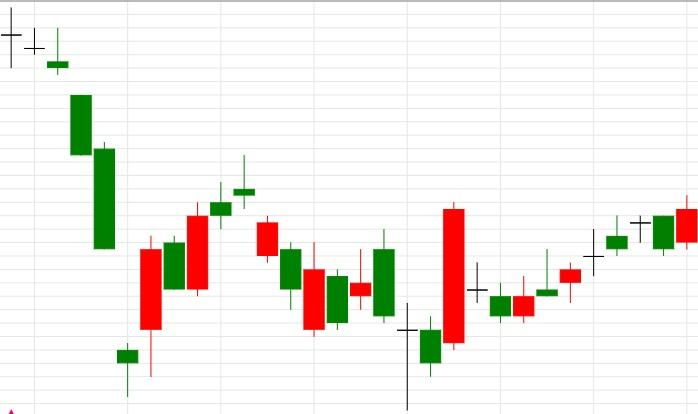bearish_engulfing_fall: (303, 230, 396, 337)
